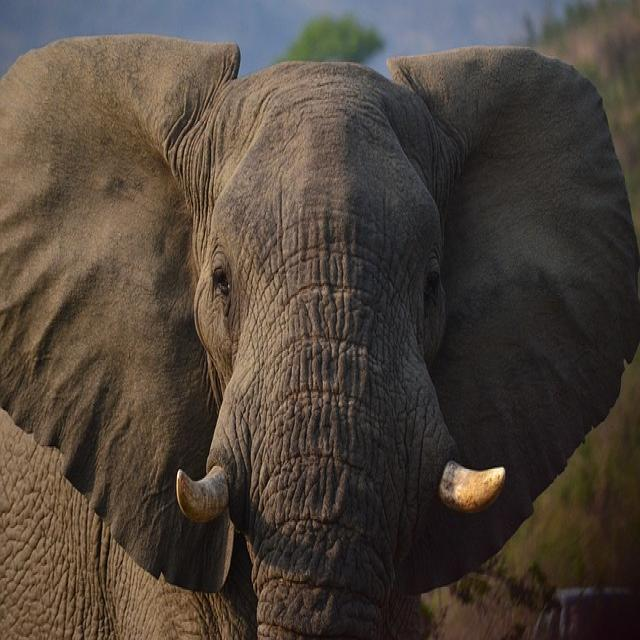elephant: (0, 36, 640, 637)
